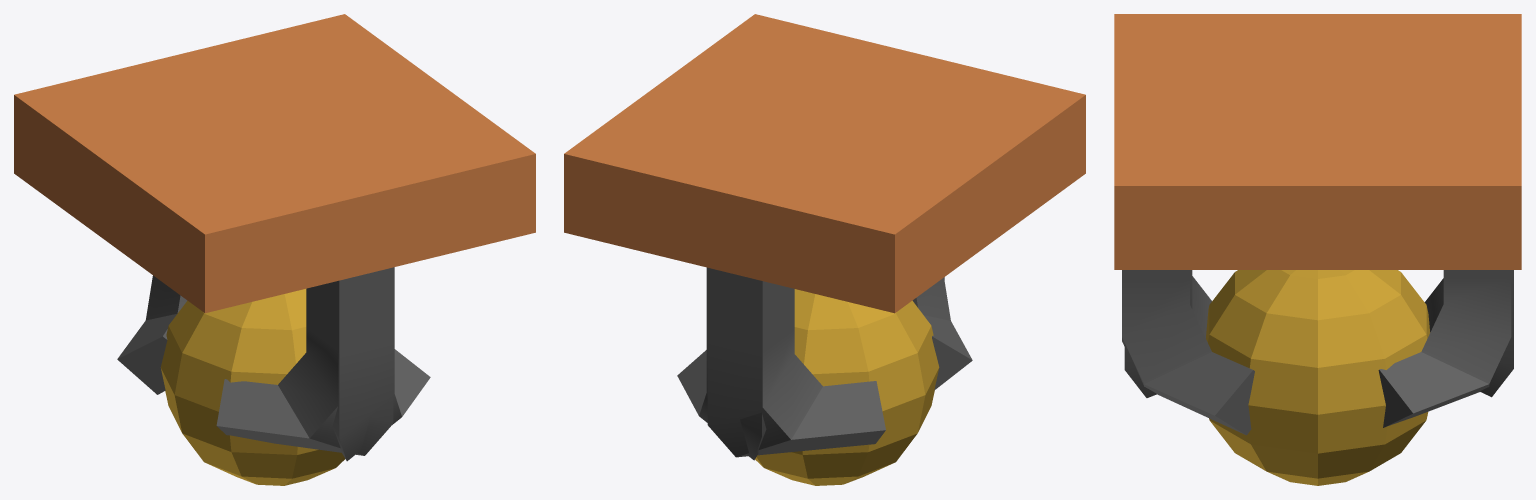
Rendered from RollingTable 1.fbx.
3 renders of one model, left to right at view 1: azimuth 30°, elevation 25°; view 2: azimuth 150°, elevation 25°; view 3: azimuth 270°, elevation 25°, orthographic. The views are drawn at different scales.
Parts seen in each view (by area): view 1: pCube6, pSphere1, pCube7, pCube10, pCube8; view 2: pCube6, pCube8, pSphere1, pCube7, pCube9; view 3: pCube6, pSphere1, pCube10, pCube9, pCube8, pCube7.
Part boxes in pixels (bbox=[...]): pCube6: bbox=[14, 14, 535, 313]; pSphere1: bbox=[160, 289, 344, 485]; pCube7: bbox=[216, 281, 393, 455]; pCube10: bbox=[332, 267, 430, 461]; pCube8: bbox=[117, 275, 187, 394]; pCube6: bbox=[564, 14, 1085, 313]; pCube8: bbox=[707, 268, 885, 457]; pSphere1: bbox=[755, 289, 939, 485]; pCube7: bbox=[912, 277, 972, 390]; pCube9: bbox=[677, 267, 766, 460]; pCube6: bbox=[1114, 14, 1521, 269]; pSphere1: bbox=[1206, 270, 1430, 485]; pCube10: bbox=[1122, 270, 1254, 435]; pCube9: bbox=[1378, 270, 1511, 427]; pCube8: bbox=[1424, 270, 1513, 397]; pCube7: bbox=[1124, 270, 1211, 397].
Size of the model in its own units: 1 by 1.01 by 1.
